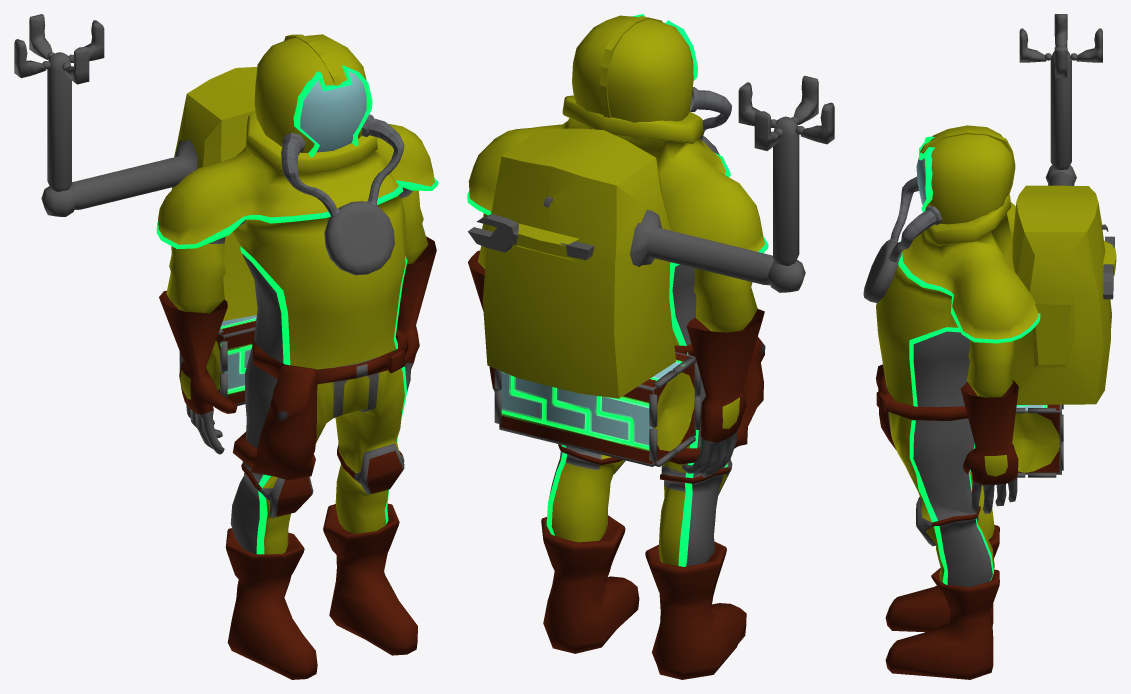
File: astronautaEstratega.glb
The picture shows the model from 3 angles, left to right: view 1: azimuth 30°, elevation 25°; view 2: azimuth 150°, elevation 25°; view 3: azimuth 270°, elevation 25°; orthographic projection. The views are drawn at different scales.
Parts seen in each view (by area): view 1: Traje y escafandra, Botas, Brazo robotico.001, Casco, Cinturon, Mochila, Guantes, Cube, celula de energía, Tubo, Fideo.001; view 2: Mochila, Traje y escafandra, Botas, celula de energía, Brazo robotico.001, Casco, Guantes, Cinturon, Llave inglesa, Fideo.001, Tubo; view 3: Traje y escafandra, Mochila, Botas, Casco, Guantes, Brazo robotico.001, celula de energía, Cinturon, Tubo, Cube, Fideo.001, Llave inglesa.
Boxes of the visible parts, left/top/right/bottom form: Traje y escafandra: left=156, top=112, right=438, bottom=554; Botas: left=225, top=503, right=417, bottom=679; Brazo robotico.001: left=14, top=14, right=197, bottom=216; Casco: left=254, top=34, right=366, bottom=152; Cinturon: left=232, top=329, right=408, bottom=480; Mochila: left=171, top=67, right=257, bottom=320; Guantes: left=159, top=236, right=436, bottom=454; Cube: left=324, top=201, right=394, bottom=275; celula de energía: left=179, top=315, right=256, bottom=405; Tubo: left=281, top=114, right=404, bottom=216; Fideo.001: left=284, top=34, right=372, bottom=157; Mochila: left=482, top=128, right=676, bottom=398; Traje y escafandra: left=467, top=95, right=768, bottom=566; Botas: left=541, top=515, right=746, bottom=679; celula de energía: left=494, top=351, right=700, bottom=466; Brazo robotico.001: left=630, top=76, right=834, bottom=292; Casco: left=572, top=15, right=693, bottom=139; Guantes: left=468, top=250, right=764, bottom=477; Cinturon: left=668, top=337, right=765, bottom=464; Llave inglesa: left=468, top=214, right=594, bottom=260; Fideo.001: left=599, top=14, right=697, bottom=118; Tubo: left=689, top=87, right=731, bottom=140; Traje y escafandra: left=876, top=195, right=1040, bottom=587; Mochila: left=1012, top=185, right=1116, bottom=404; Botas: left=885, top=525, right=999, bottom=679; Casco: left=916, top=125, right=1013, bottom=224; Guantes: left=960, top=380, right=1018, bottom=513; Brazo robotico.001: left=1019, top=14, right=1102, bottom=185; celula de energía: left=1012, top=404, right=1063, bottom=477; Cinturon: left=876, top=364, right=967, bottom=450; Tubo: left=888, top=176, right=941, bottom=261; Cube: left=863, top=240, right=901, bottom=302; Fideo.001: left=919, top=130, right=1015, bottom=212; Llave inglesa: left=1103, top=236, right=1114, bottom=299.
Size of the model in its own units: 2.26 by 3.52 by 1.52.
Materials: 1 (1 with a texture image).
